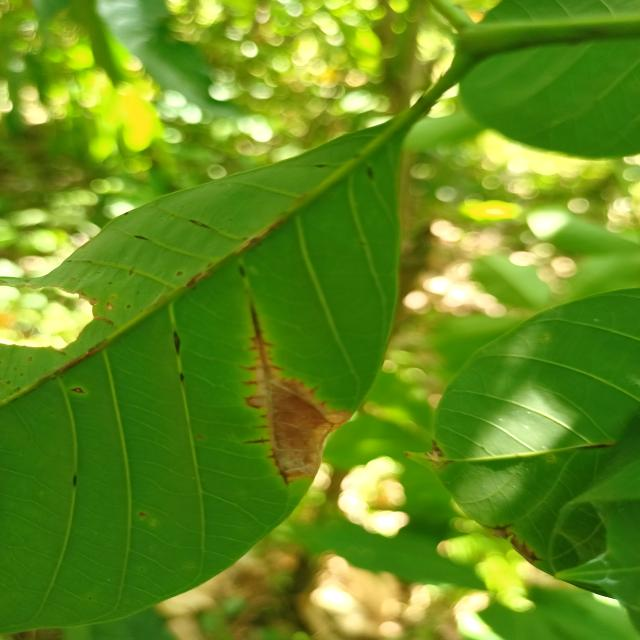Corynespora: (240, 293, 292, 486)
Leaf-Blight: (275, 378, 349, 482)
